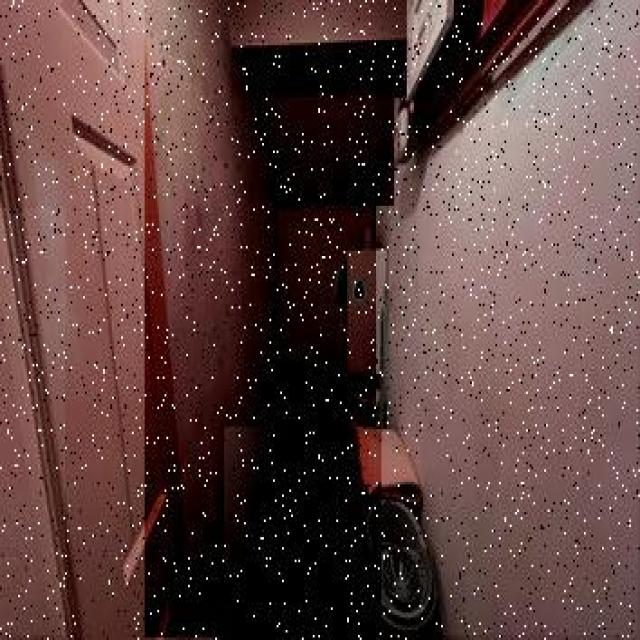Wall: (377, 1, 638, 635), (145, 1, 378, 637), (225, 428, 381, 637), (0, 210, 65, 635), (232, 0, 407, 98), (256, 97, 394, 206)
